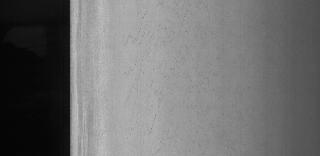silk spot: (122, 11, 235, 144)
